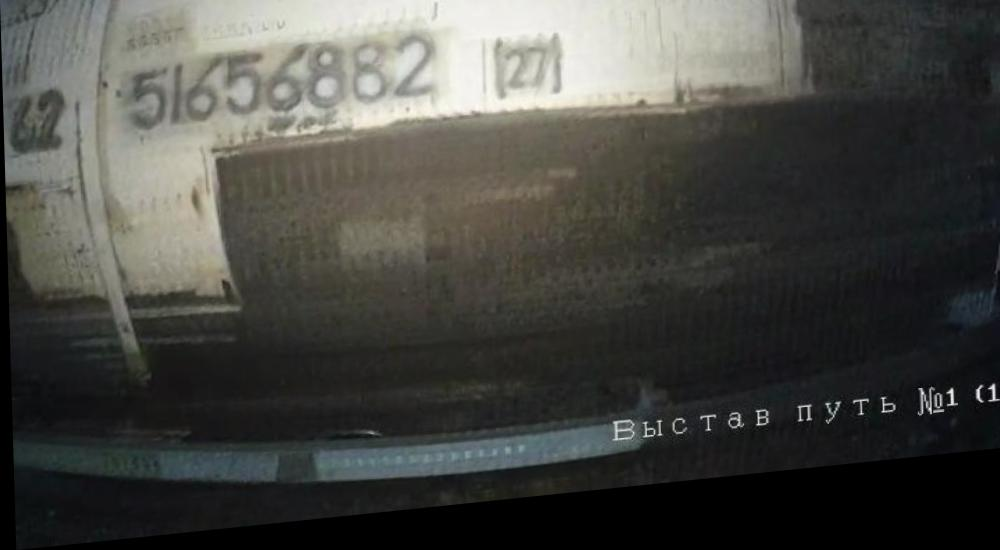Wagon-number: (124, 36, 442, 135)
